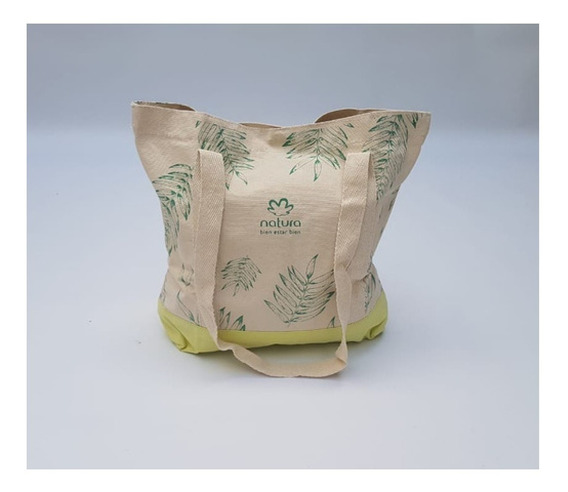cartera: (129, 97, 433, 357)
